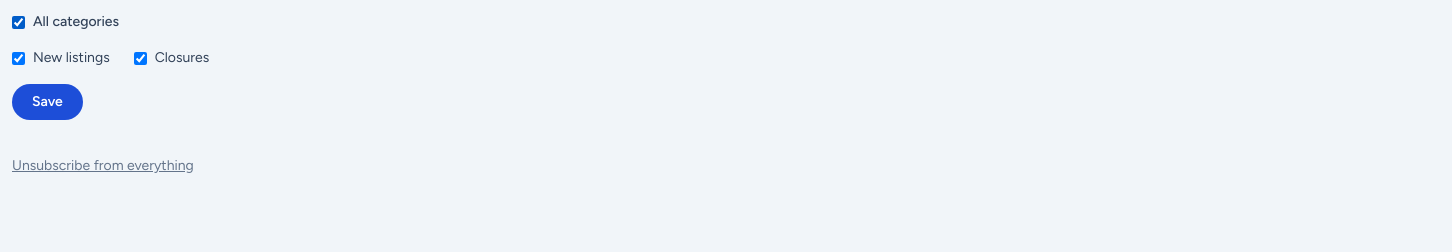
it: ManageSubscriptionForm › refuses to save when both notify kinds are unchecked
Click the checkbox labelled "New listings".
click(18, 58)  # box [12,52,25,64]
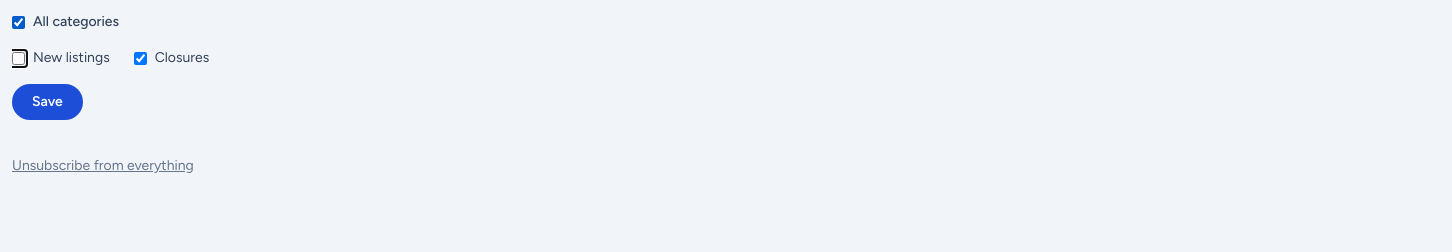
Click the checkbox labelled "Closures".
click(140, 58)  # box [134,52,147,64]
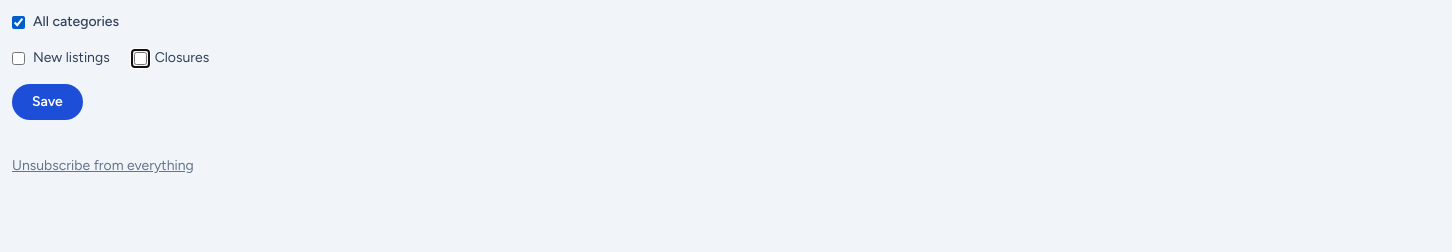
Click the button "Save".
click(47, 102)  # box [12,84,83,120]
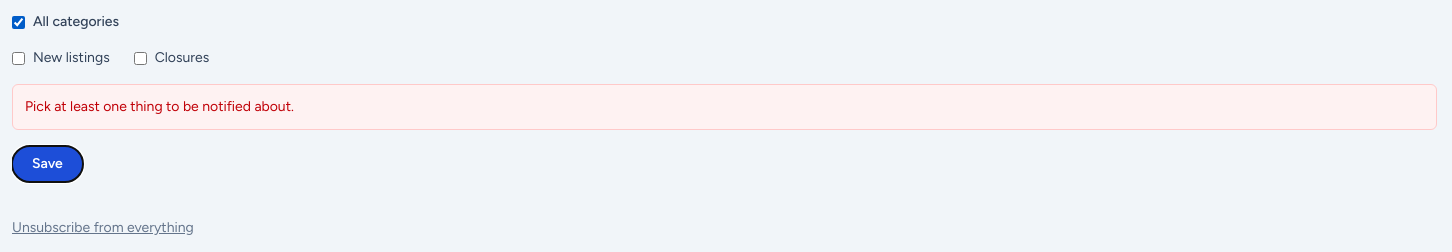
Expected: the text "Pick at least one thing to be notified about." is shown, [12,84,1437,130]
